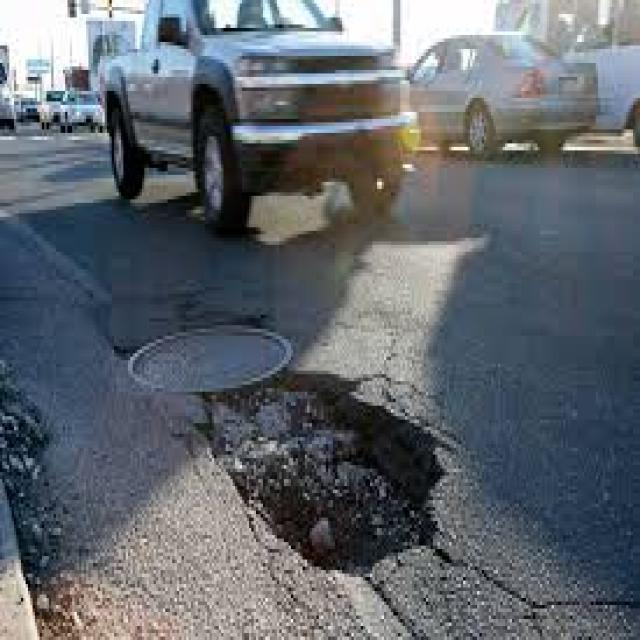pothole: (228, 347, 456, 575)
